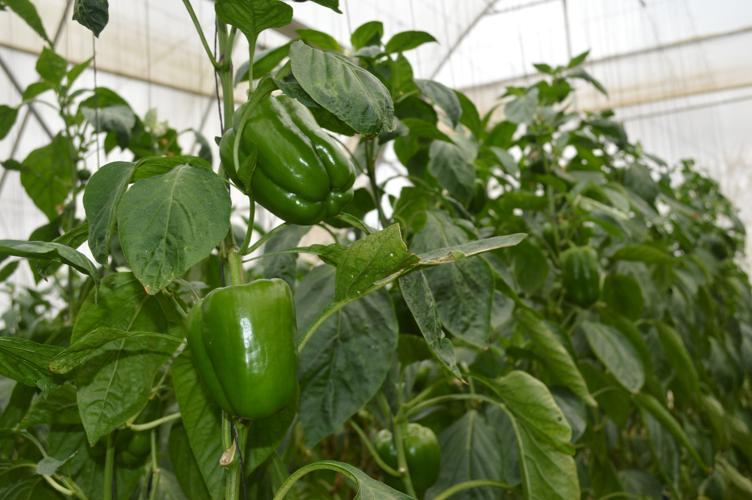BellPepper: (219, 89, 361, 232), (181, 278, 297, 422), (373, 417, 447, 500), (555, 239, 609, 314)
